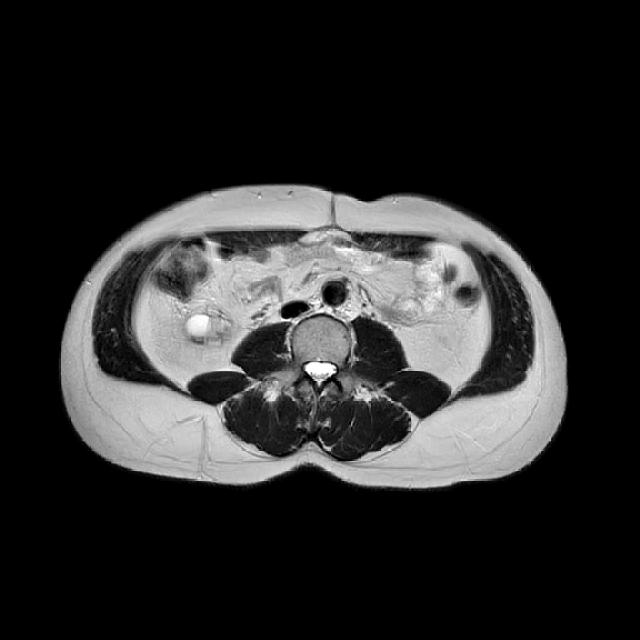sag: (188, 303, 232, 341)
